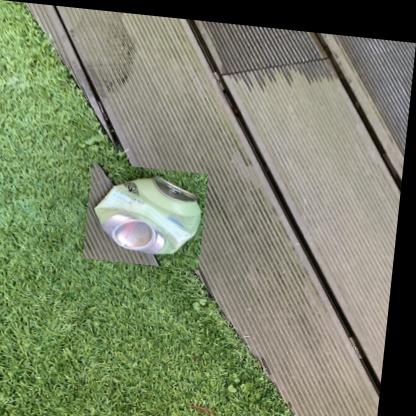trash: (95, 176, 200, 253)
